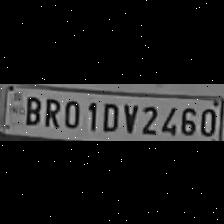0: (60, 96, 82, 130), (198, 104, 216, 136)
1: (82, 98, 98, 132)
2: (137, 102, 157, 134)
4: (158, 102, 176, 134)
6: (177, 103, 195, 135)
B: (22, 93, 42, 125)
D: (98, 99, 119, 133)
R: (41, 94, 60, 128)
V: (120, 100, 138, 134)
